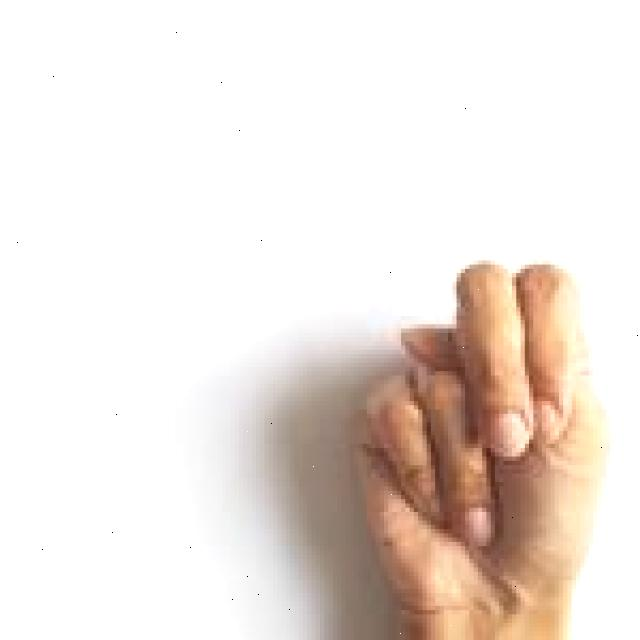N: (352, 250, 618, 640)
